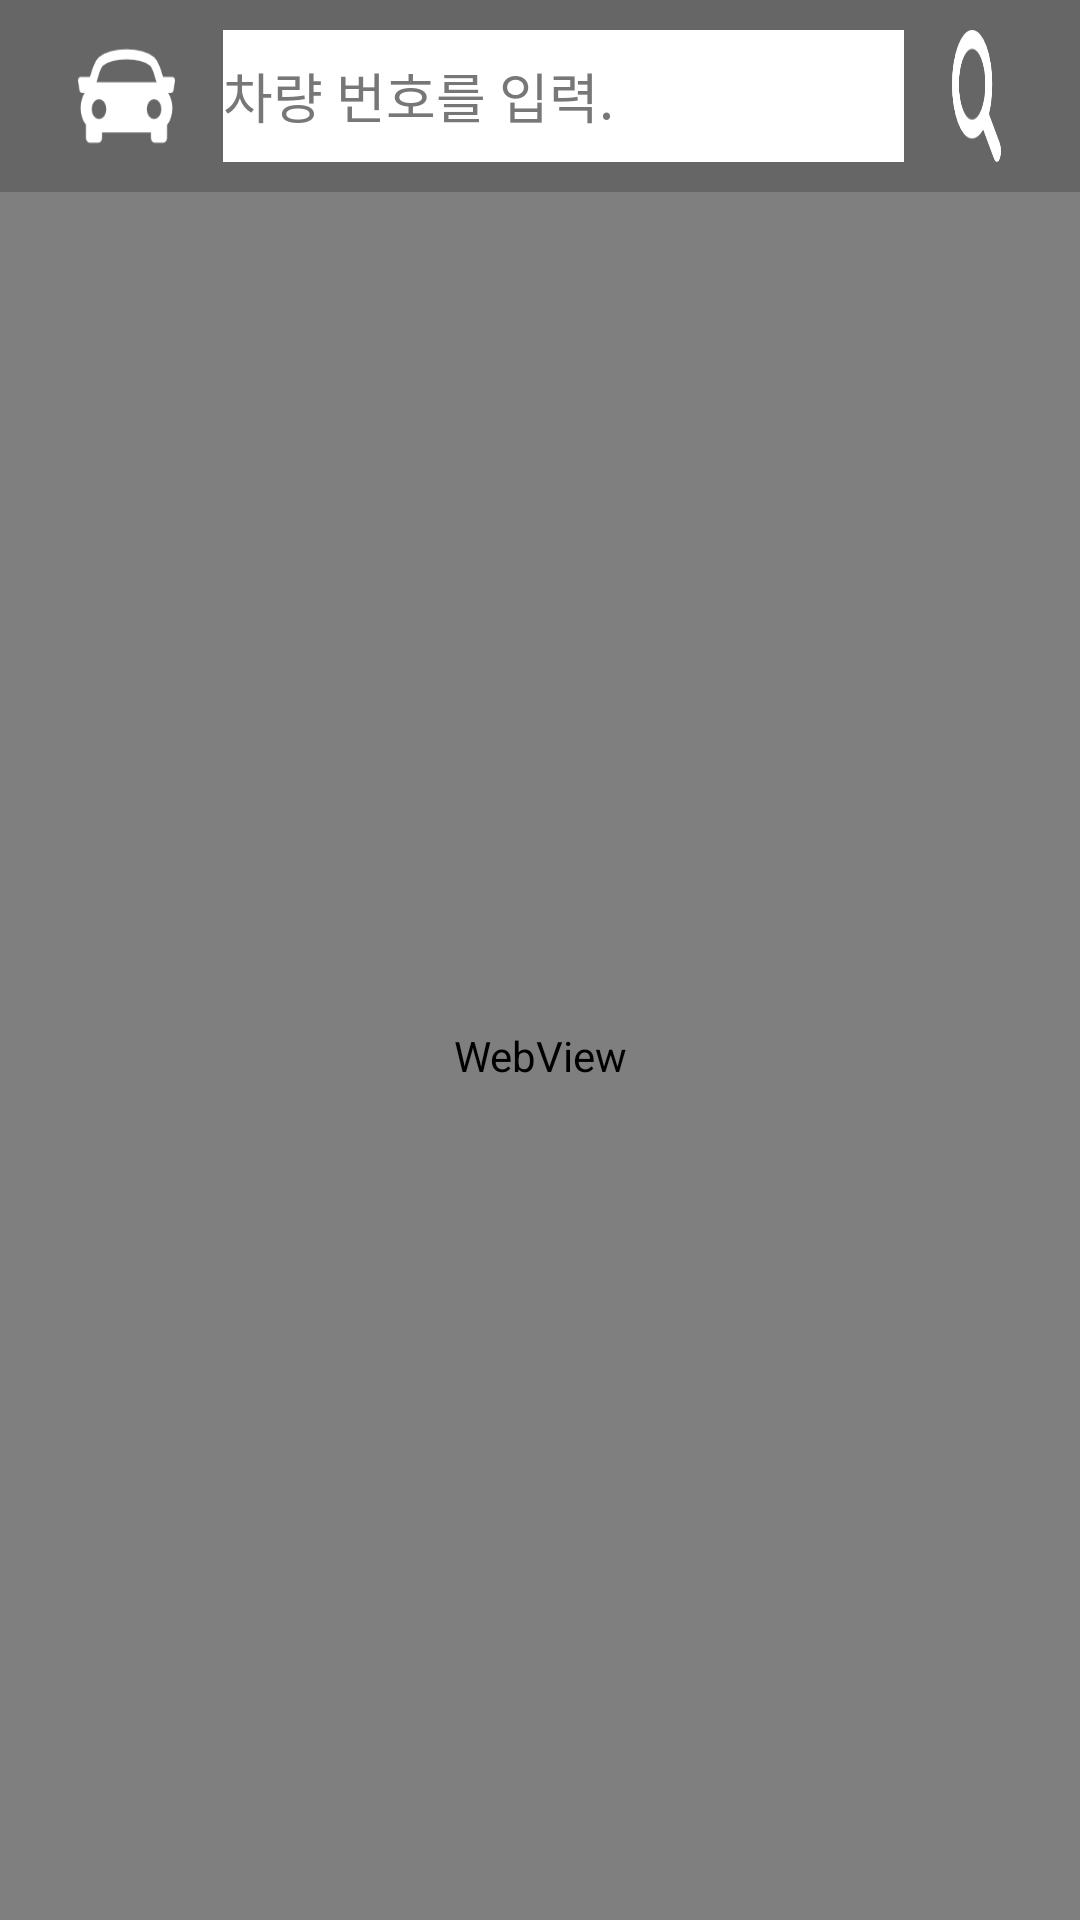

Screen size 1080w x 1920h. Icon name, then its center in pixels as point (x, y):
car: point (126, 96)
search: point (976, 96)
